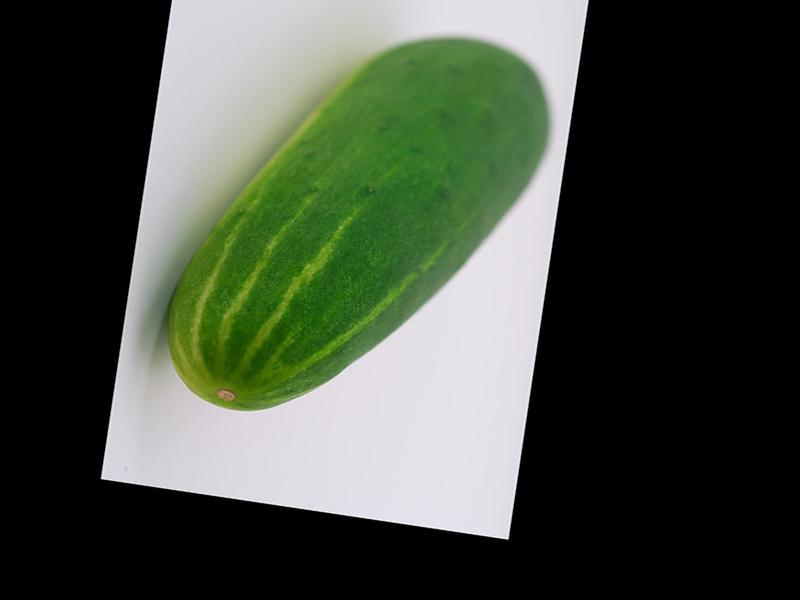Cucumber: (157, 1, 561, 449)
